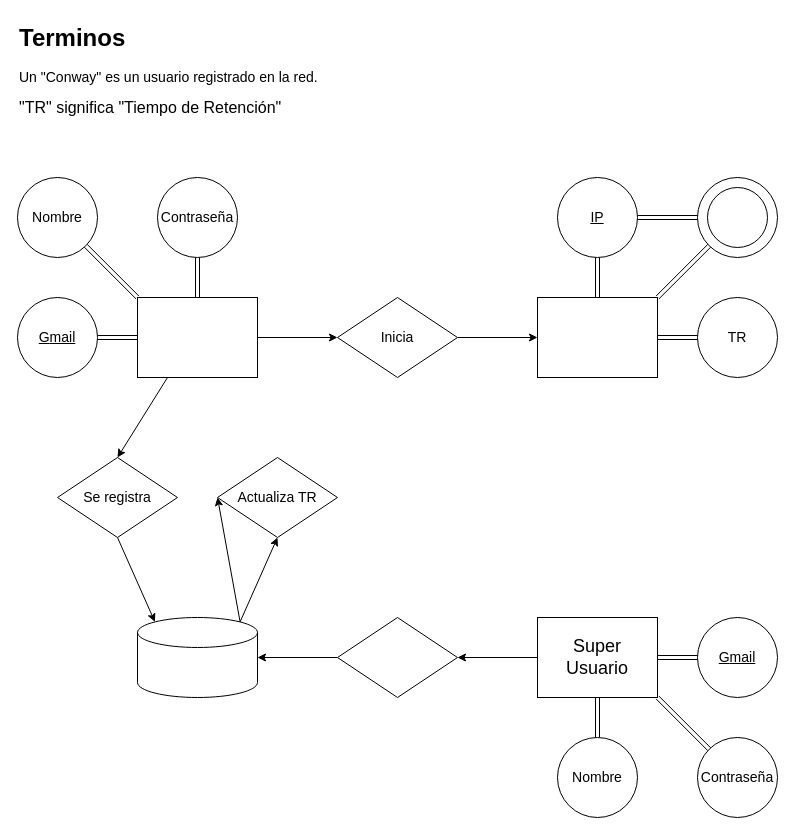
Some shapes in this 795 by 835 pixel diagram are drawn without their labels. The box of each missing label's shape, as (x1, y1, x2, y2) in pixels:
Consultar TR global: (336, 616, 458, 698)
País: (706, 186, 768, 248)
Registrados: (136, 616, 258, 698)
Sesión: (536, 296, 658, 378)
Usuario: (136, 296, 258, 378)
